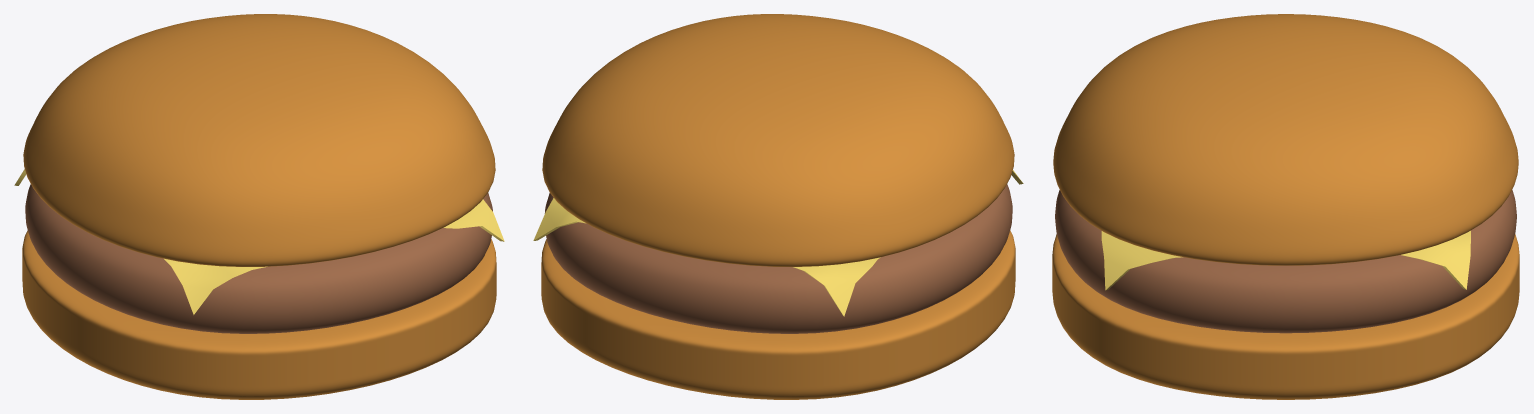
Rendered from burger.glb.
3 views of the same model, side by side, from view 1: azimuth 30°, elevation 25°; view 2: azimuth 150°, elevation 25°; view 3: azimuth 270°, elevation 25° (orthographic).
Parts seen in each view (by area): view 1: Cube.002, Cube, Cube.001, Plane; view 2: Cube.002, Cube, Cube.001, Plane; view 3: Cube.002, Cube, Cube.001, Plane.
Part boxes in pixels (x1,y1,x2,y2): Cube.002: [23, 14, 495, 266]; Cube: [22, 230, 496, 399]; Cube.001: [25, 184, 492, 333]; Plane: [14, 169, 504, 314]; Cube.002: [542, 14, 1014, 266]; Cube: [541, 230, 1015, 399]; Cube.001: [544, 184, 1012, 333]; Plane: [533, 170, 1023, 316]; Cube.002: [1053, 14, 1518, 265]; Cube: [1052, 234, 1519, 399]; Cube.001: [1055, 190, 1516, 333]; Plane: [1101, 230, 1470, 290].
Size of the model in its own units: 9.17 by 5.67 by 9.17.
